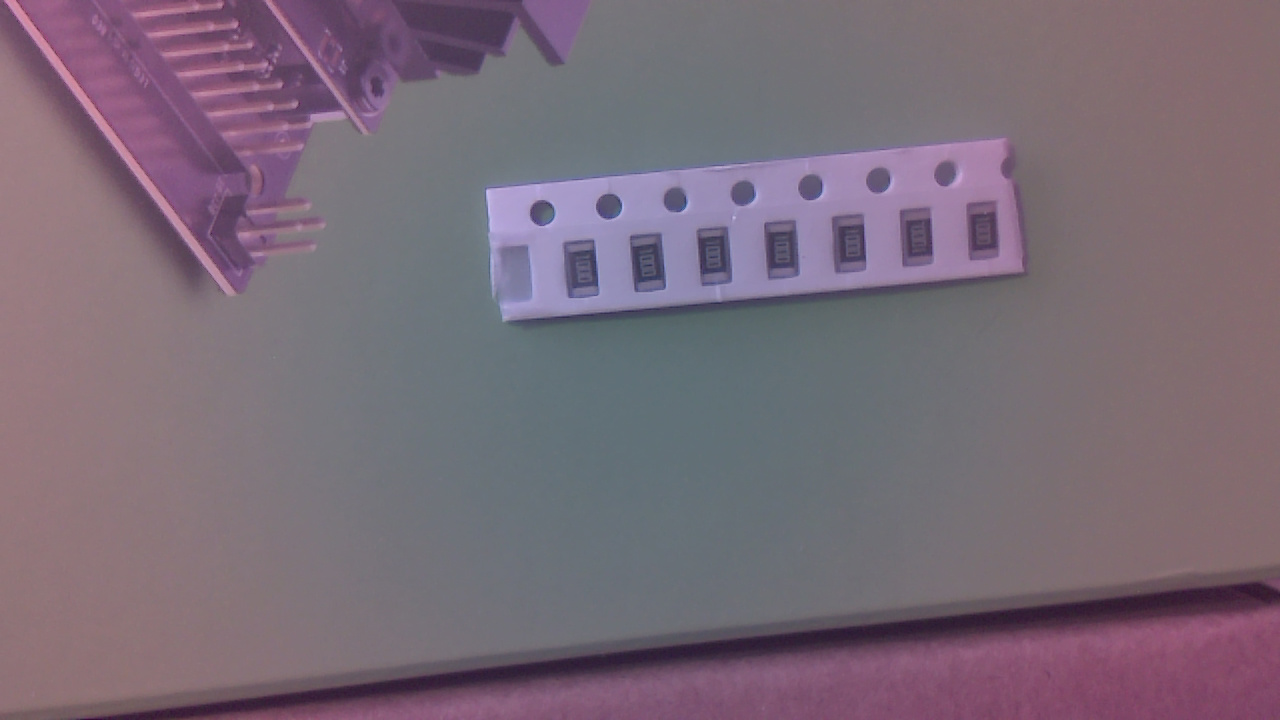Resistor: (903, 209, 945, 274), (565, 241, 605, 306), (835, 215, 875, 280), (700, 230, 738, 294), (768, 223, 805, 288), (970, 204, 1008, 267), (633, 239, 670, 298)
